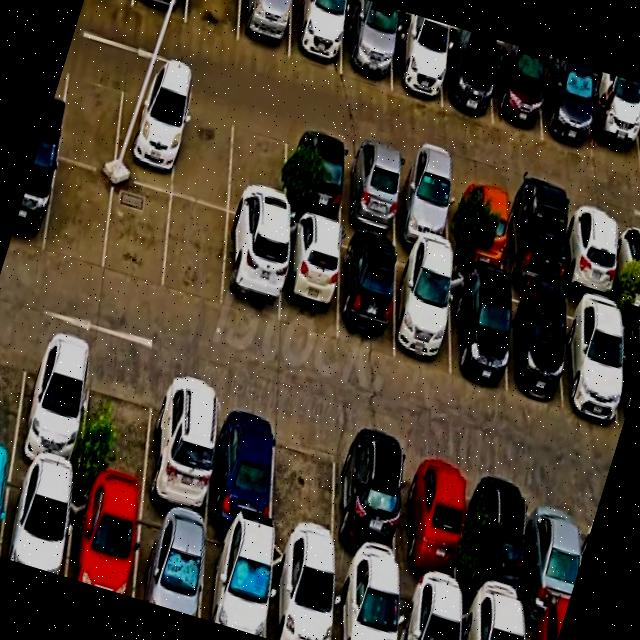empty: (78, 349, 156, 502), (270, 410, 337, 560), (43, 159, 114, 270), (103, 177, 171, 292), (57, 57, 124, 173), (227, 109, 288, 228), (162, 196, 227, 307), (171, 94, 233, 210), (0, 320, 31, 458), (185, 0, 240, 41)
occupied: (12, 328, 92, 480), (144, 370, 219, 521), (207, 389, 278, 537), (335, 427, 404, 579), (399, 445, 462, 598), (470, 465, 528, 615), (132, 504, 205, 618), (113, 75, 183, 193), (0, 463, 73, 576), (66, 484, 139, 597), (200, 525, 271, 638), (526, 482, 581, 625), (279, 216, 340, 340), (563, 295, 620, 424), (336, 232, 394, 354), (394, 249, 450, 375), (504, 283, 562, 403), (450, 268, 506, 392), (221, 215, 281, 324), (266, 544, 332, 640), (285, 126, 345, 226), (506, 189, 561, 292), (343, 142, 397, 240), (396, 156, 449, 254), (452, 174, 504, 273), (9, 147, 57, 253), (588, 78, 640, 173), (542, 61, 592, 157), (566, 205, 615, 302), (492, 47, 543, 140), (333, 566, 397, 640), (442, 35, 492, 124), (391, 20, 441, 107), (341, 5, 392, 88), (288, 0, 345, 74), (398, 581, 458, 640), (238, 0, 291, 58), (461, 599, 522, 640), (619, 310, 640, 429), (617, 219, 640, 309), (132, 0, 187, 22), (524, 616, 561, 640)
